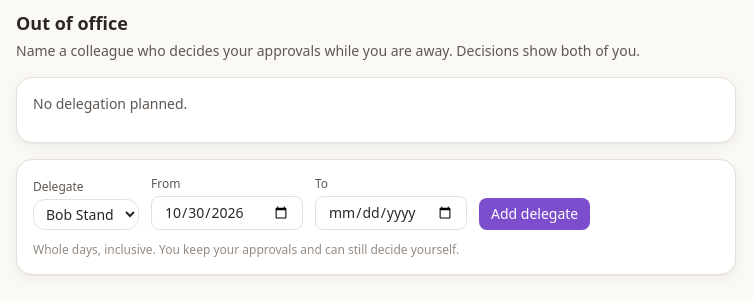
Test case: OutOfOfficePage › adds a delegate for a date range, never offering yourself
This screenshot has width=753, height=301.
Expected: the text "No delegation planned." is shown, [33, 94, 187, 113]
Expected: the dropdown labelled "Delegate" shows "Bob Stand", [33, 199, 139, 230]
Type "2026-11-02" into the date field labelled "From". click: (227, 213)
box: [151, 196, 303, 230]
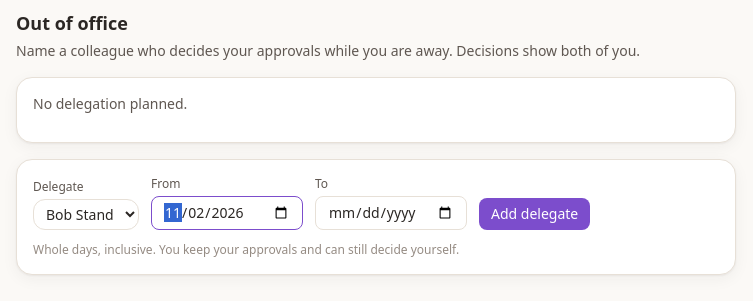
Type "2026-11-06" into the date field labelled "To". click: (391, 213)
box: [315, 196, 467, 230]
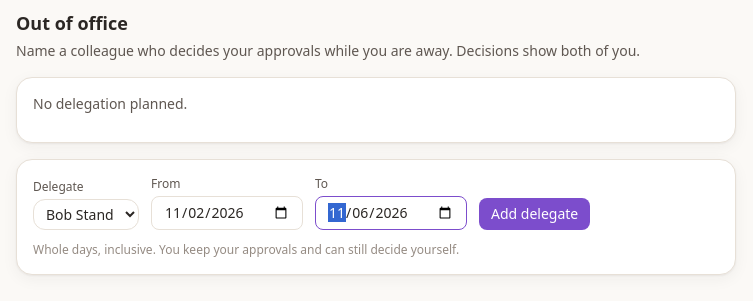
Click the button "Add delegate". click: (535, 214)
box: [479, 198, 590, 230]
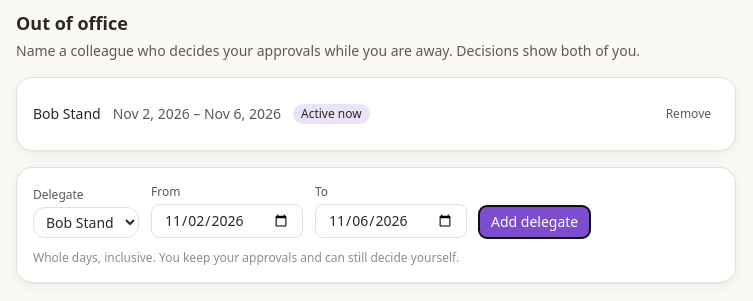
Now the text "Active now" is shown, box [293, 104, 370, 124]
